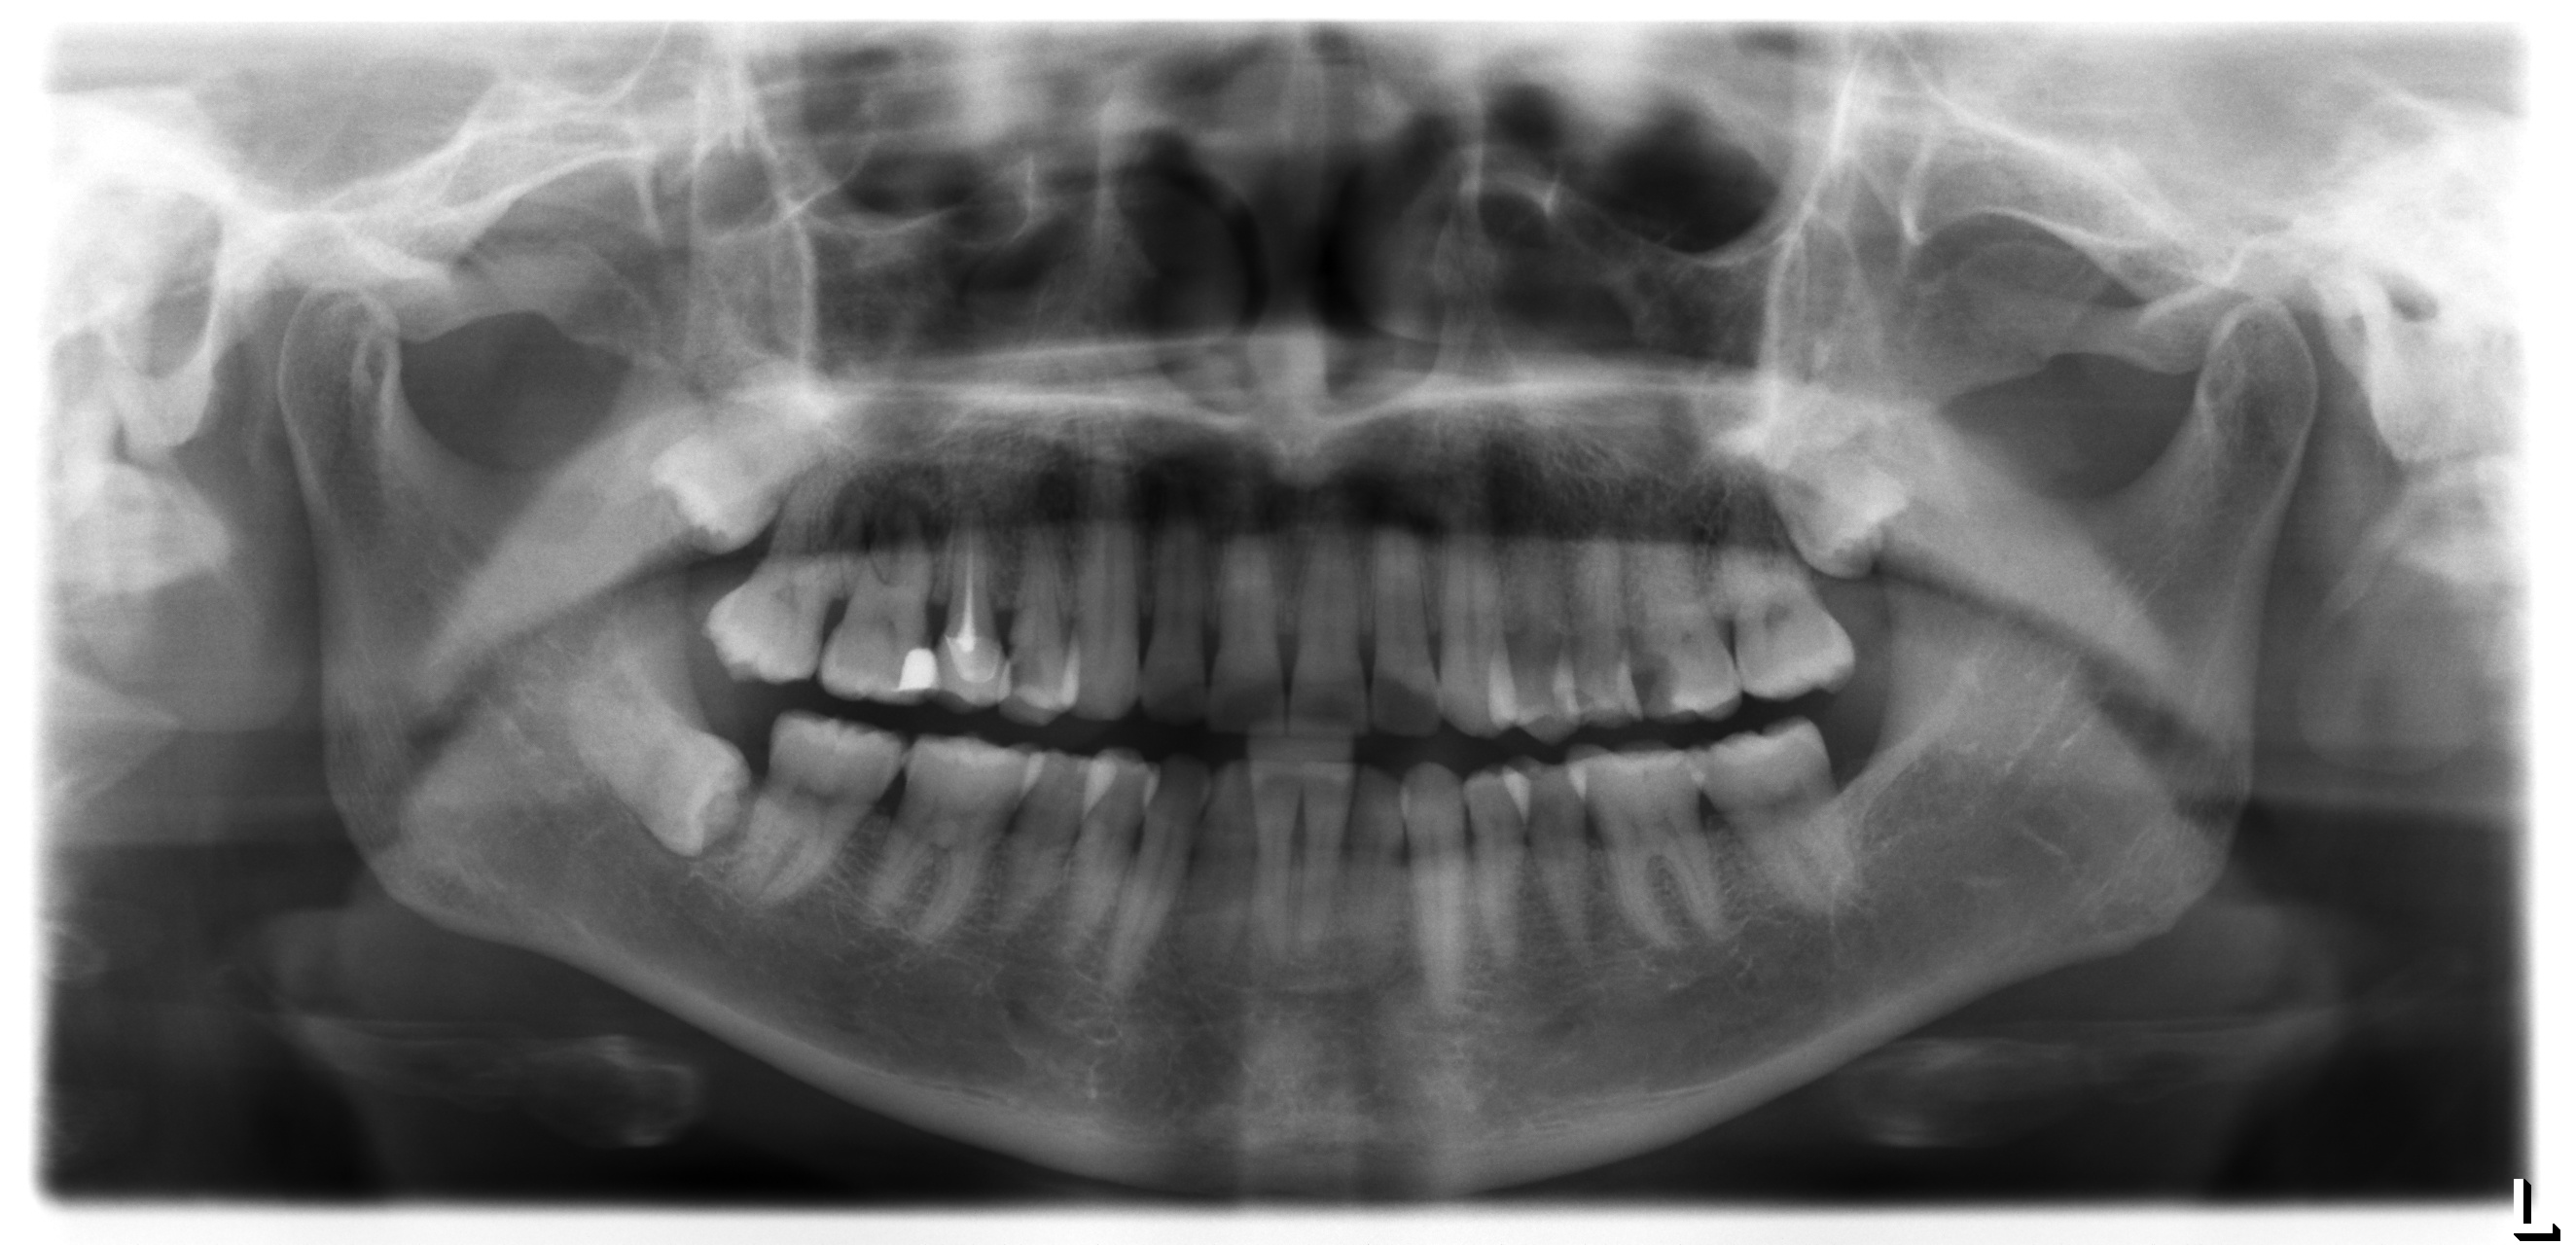Decay: (1625, 636, 1694, 716)
